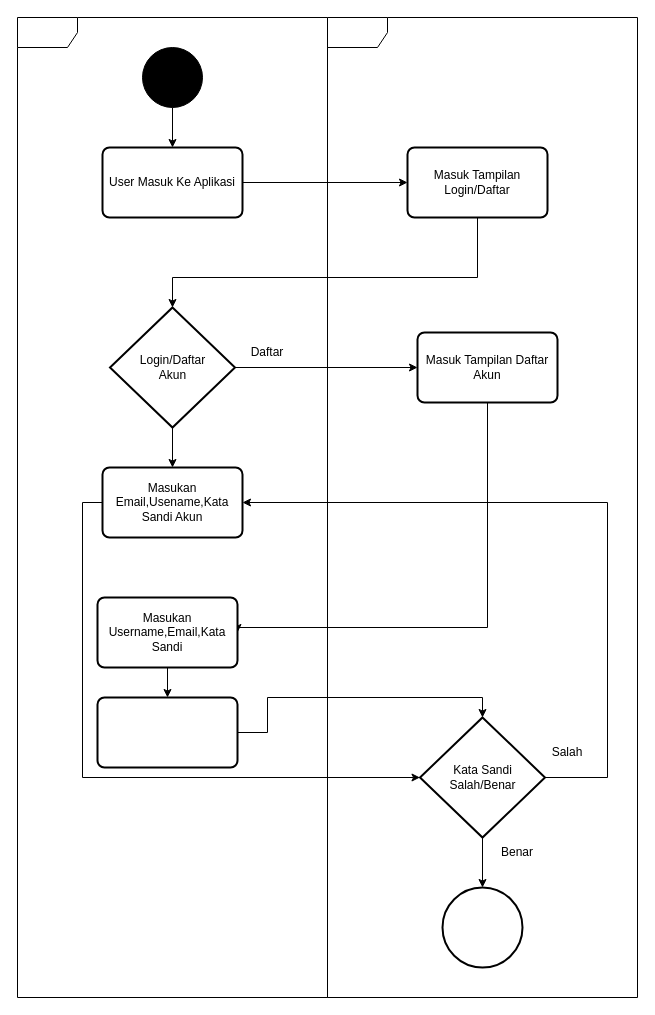
Image size: 655x1015. Some labels were removed from this diagram. The shapes that lost their labels are listed below. From the top down, each one's box as (x1, y1, x2, y2) in pixels, then its label:
(16, 16, 328, 998): USER LOGIN
(326, 16, 638, 998): SISTEM
(96, 696, 238, 768): Konfirmasi Kata Sandi
